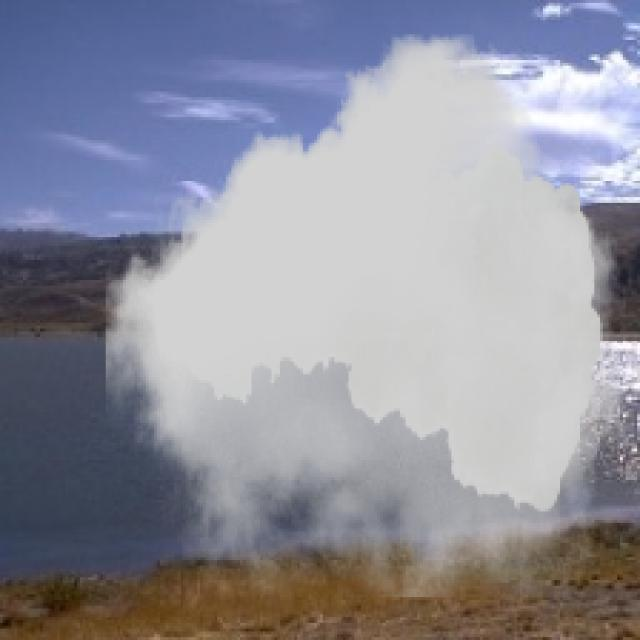smoke: (105, 34, 626, 597)
